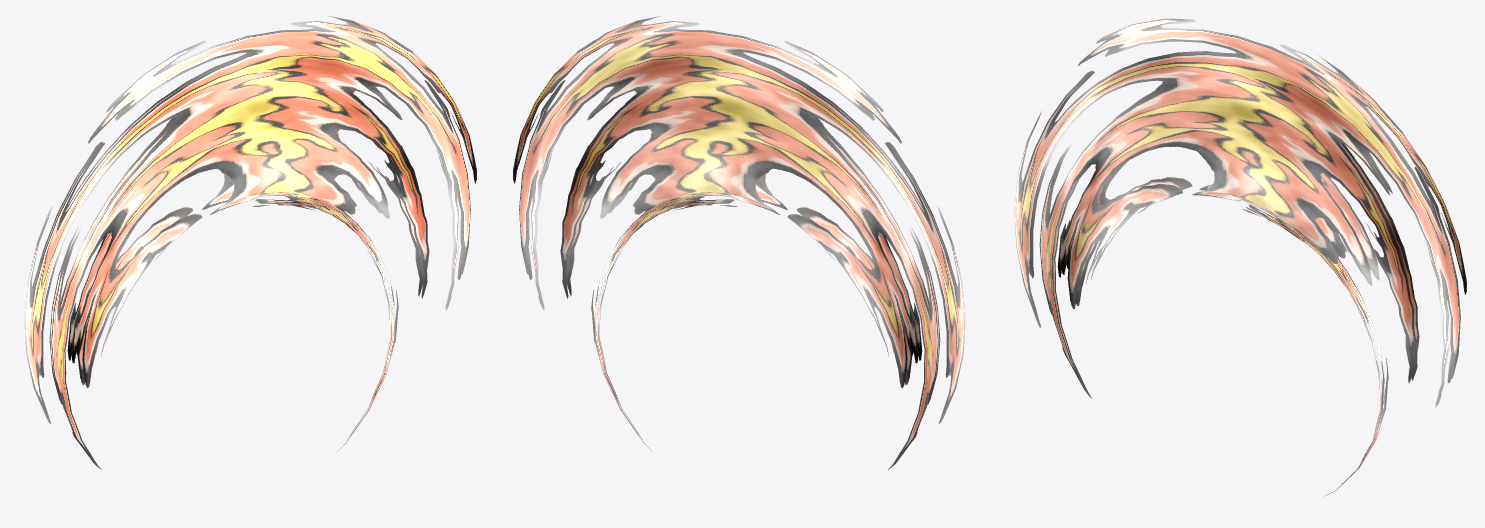
File: Kien.fbx
The picture shows the model from 3 angles, left to right: view 1: azimuth 30°, elevation 25°; view 2: azimuth 150°, elevation 25°; view 3: azimuth 330°, elevation 25°; orthographic projection.
Parts seen in each view (by area): view 1: SM_e_Skl_Fi_2Nob_Circle004.001; view 2: SM_e_Skl_Fi_2Nob_Circle004.001; view 3: SM_e_Skl_Fi_2Nob_Circle004.001.
Boxes of the visible parts, x1,y1,x2,y2 form: SM_e_Skl_Fi_2Nob_Circle004.001: (24,15,476,469); SM_e_Skl_Fi_2Nob_Circle004.001: (513,15,965,469); SM_e_Skl_Fi_2Nob_Circle004.001: (1014,18,1466,496).
Bounding box in the file's own units: 579 × 576 × 21.3.
Materials: 1 (1 with a texture image).
